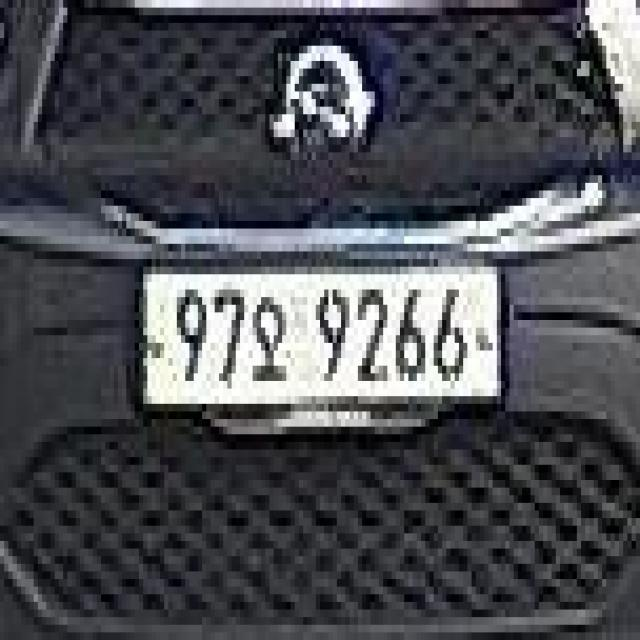2: (353, 280, 391, 388)
6: (433, 276, 471, 388), (393, 278, 430, 387)
7: (210, 281, 248, 393)
9: (311, 278, 350, 380), (172, 284, 208, 390)
license_plate: (141, 264, 504, 409)
o: (252, 290, 294, 392)
